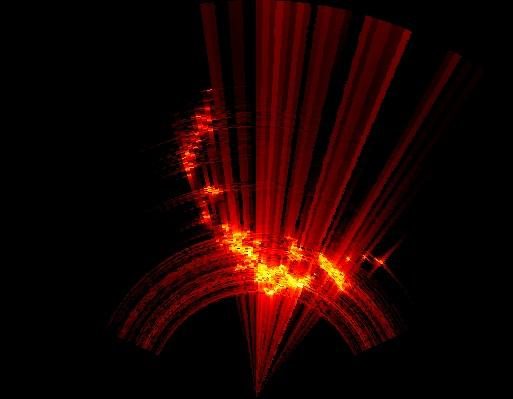shipwreck: (220, 223, 316, 296), (182, 121, 212, 177), (313, 252, 348, 290), (200, 184, 224, 198), (342, 255, 358, 265)
